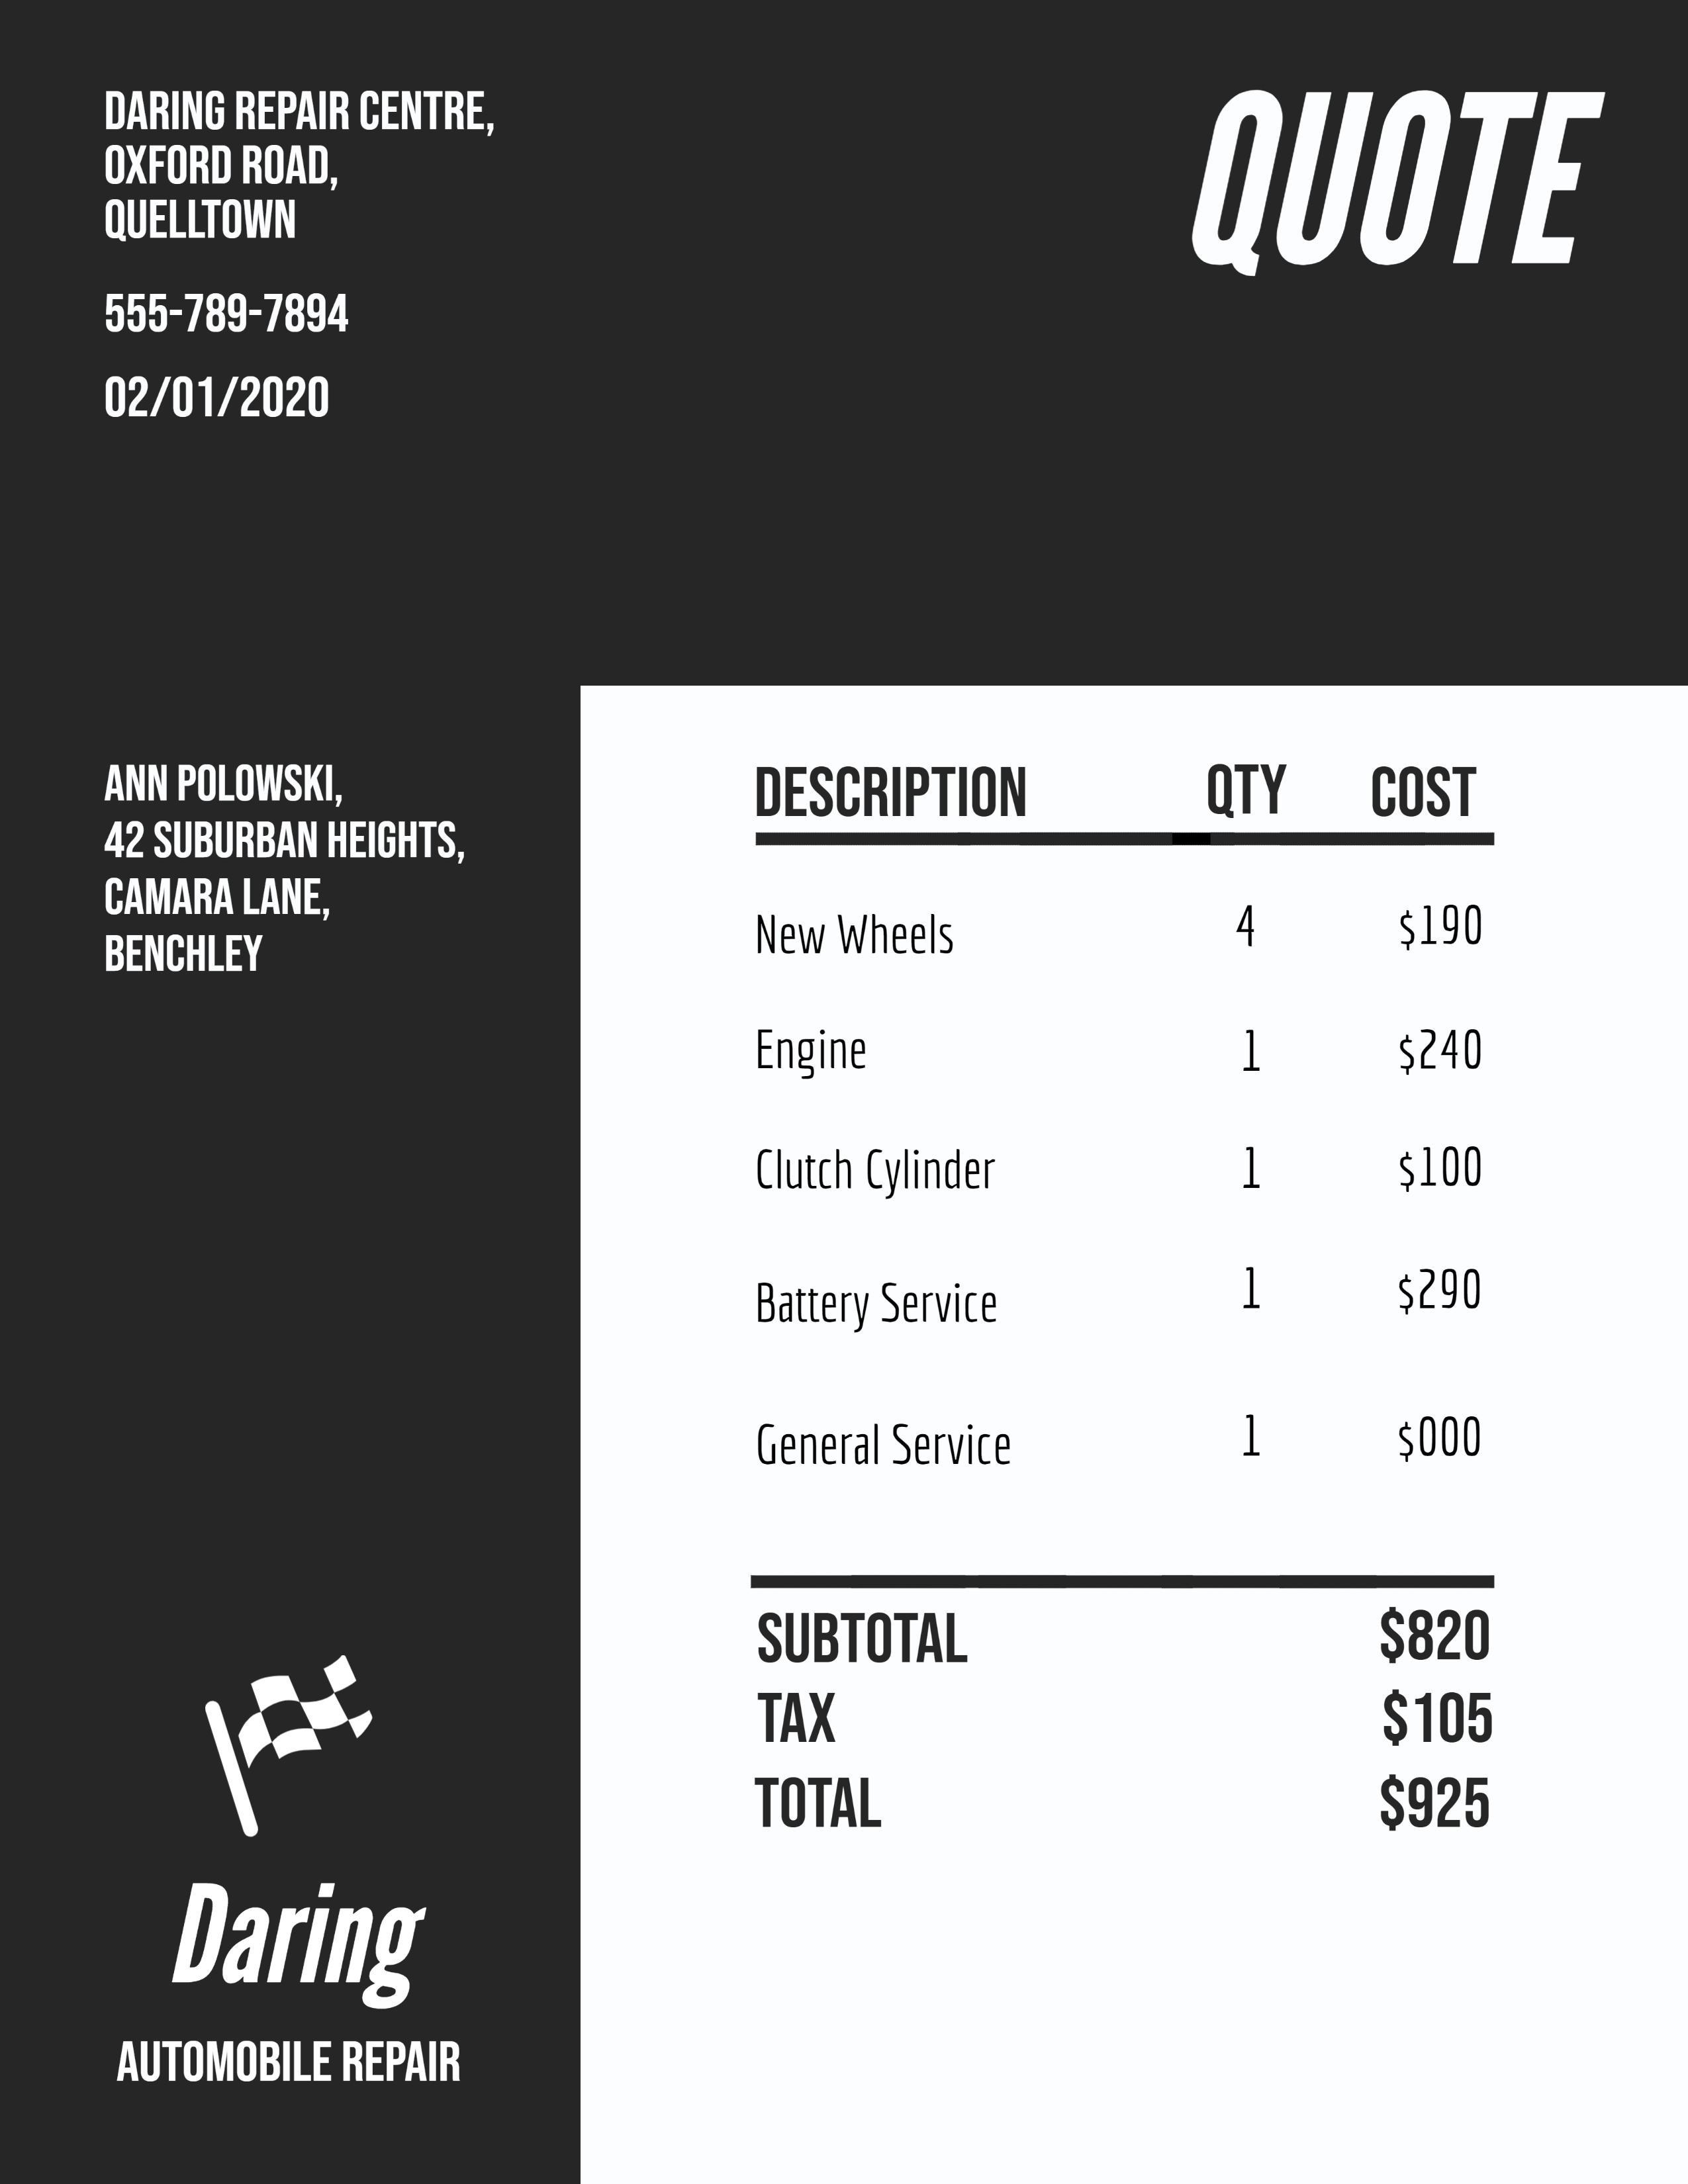ROI: (748, 760, 1497, 1588), (746, 1606, 1497, 1840), (103, 83, 507, 429), (85, 746, 496, 980)
